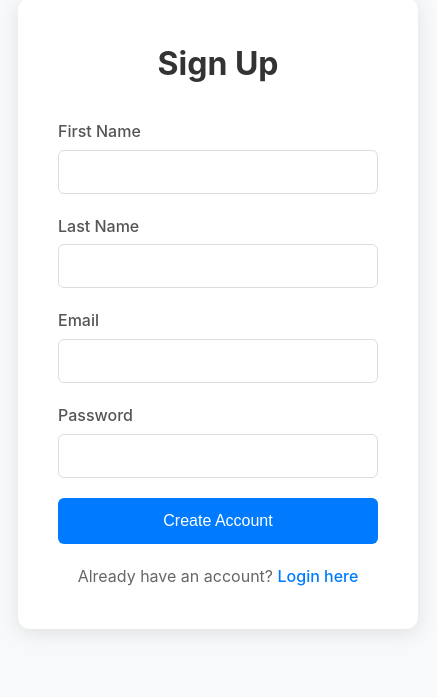
Test: Signup Page › Form Submission › handles signup errors
Type "John" into the field labelled "First Name".
click(218, 172); type("John")  # box [58, 150, 378, 194]
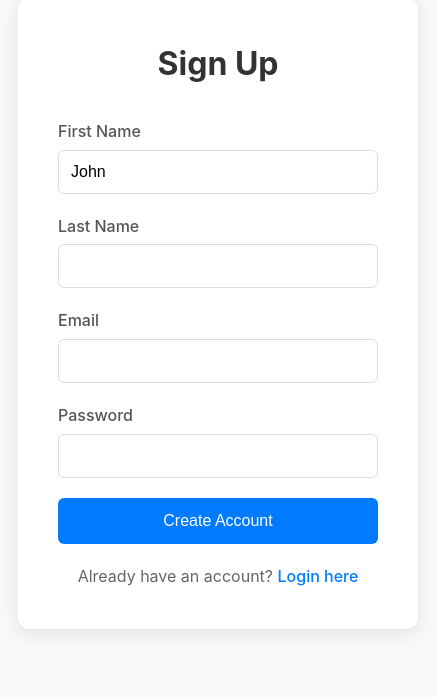
Type "Doe" into the field labelled "Last Name".
click(218, 266); type("Doe")  # box [58, 244, 378, 288]
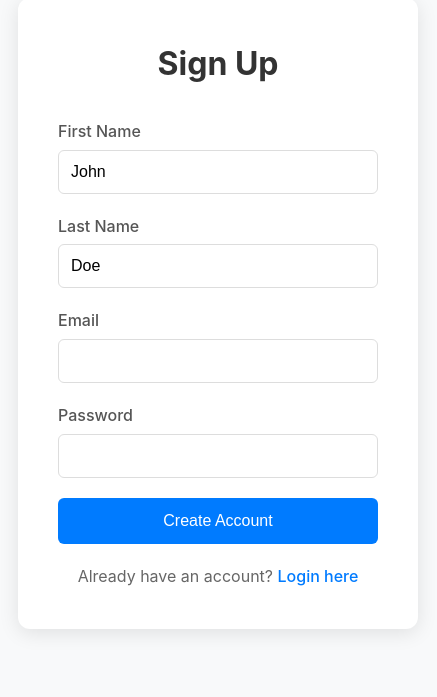
Type "john.doe@example.com" into the field labelled "Email".
click(218, 361); type("john.doe@example.com")  # box [58, 339, 378, 383]
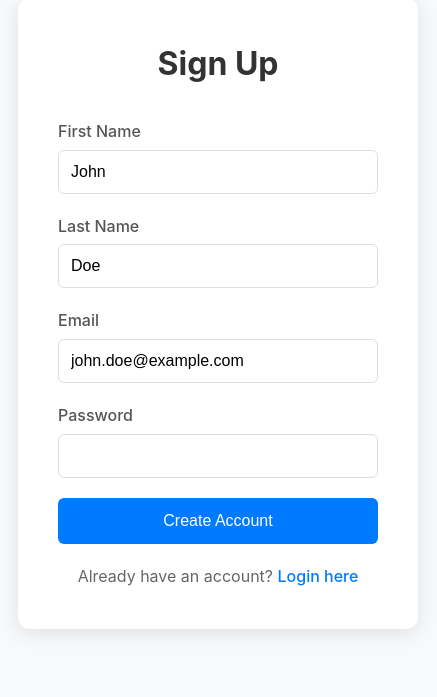
Type "Ecomm@123" into the password field labelled "Password".
click(218, 456); type("Ecomm@123")  # box [58, 434, 378, 478]
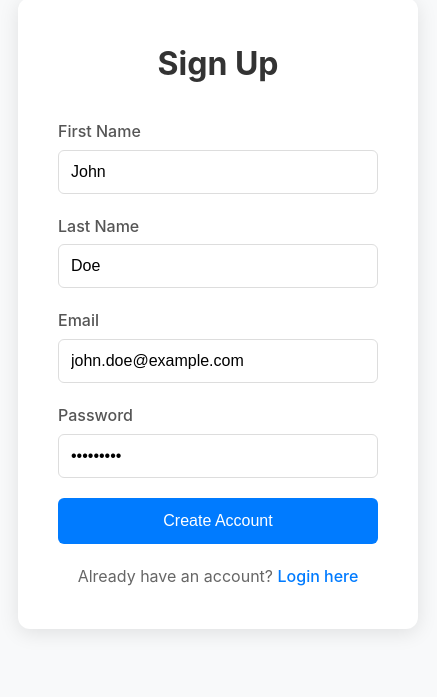
Click the button "Create Account".
click(218, 521)  # box [58, 498, 378, 544]
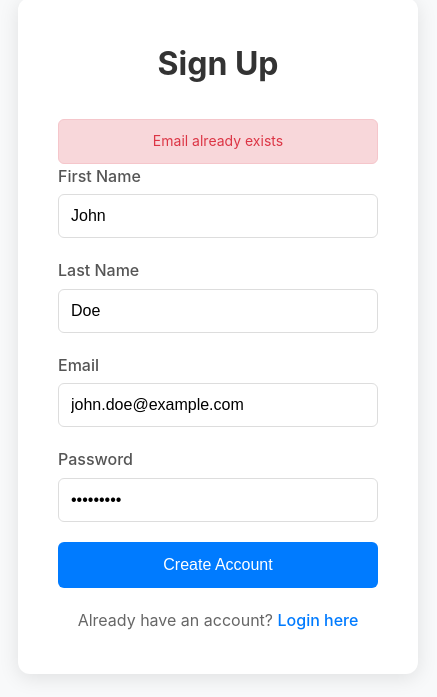
Expected: the button "Create Account" is enabled, [58, 542, 378, 588]
Expected: the text "Email already exists" is shown, [58, 119, 378, 164]
